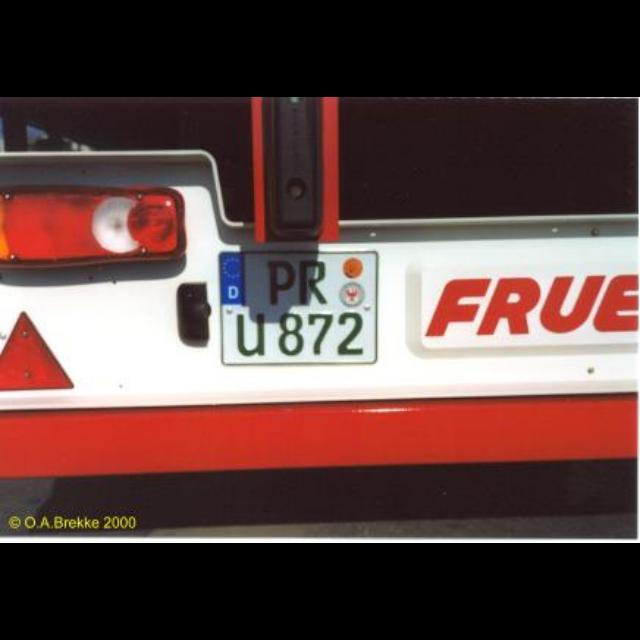d_license_plate: (220, 250, 376, 364)
